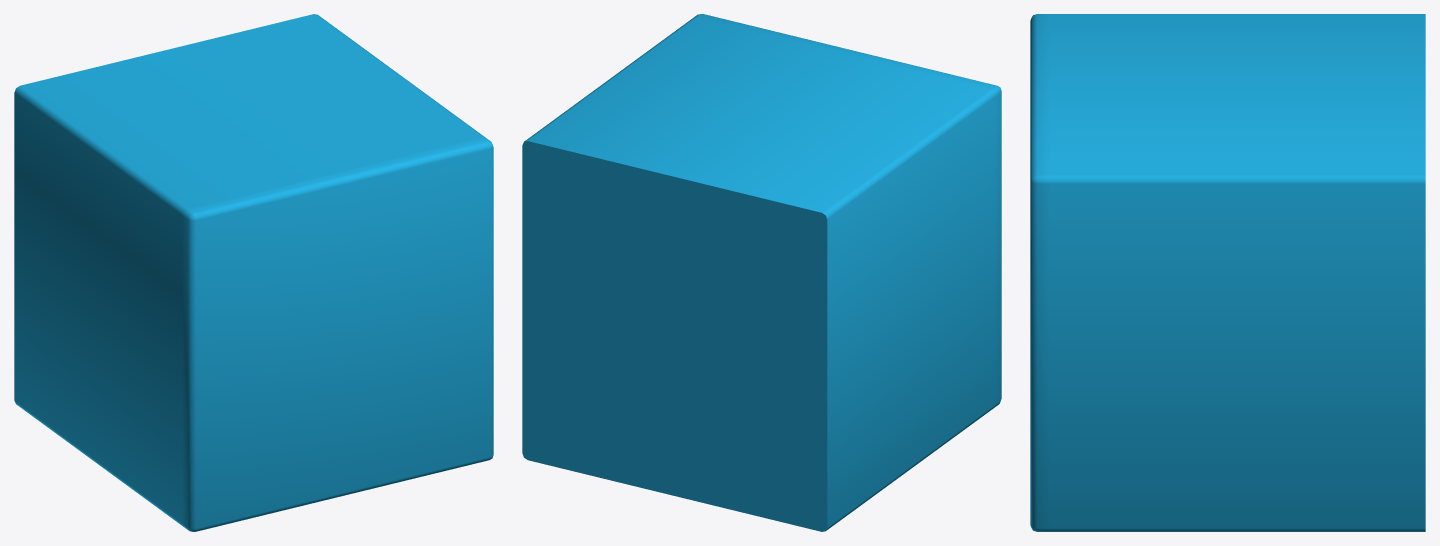
The model's file is platform_corner.fbx.
3 renders of one model, left to right at view 1: azimuth 30°, elevation 25°; view 2: azimuth 150°, elevation 25°; view 3: azimuth 270°, elevation 25°, orthographic. The views are drawn at different scales.
Parts seen in each view (by area): view 1: platform_corner; view 2: platform_corner; view 3: platform_corner.
Boxes of the visible parts, <box> form: platform_corner: <box>14,14,493,531</box>; platform_corner: <box>522,14,1001,531</box>; platform_corner: <box>1030,14,1425,531</box>.
Bounding box in the file's own units: 1846 × 1846 × 1852.
